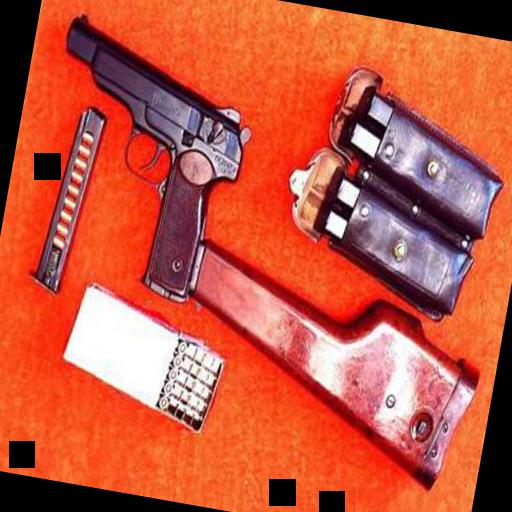Handgun: (22, 5, 262, 308)
